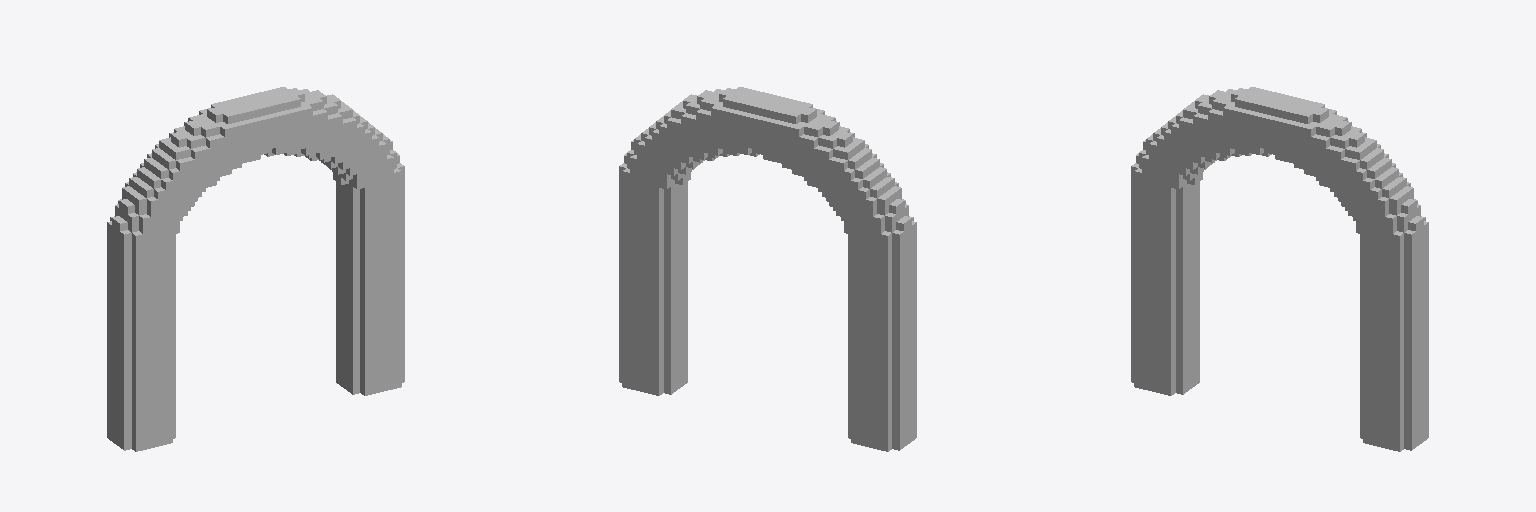
Rendered from Arch.obj.
3 renders of one model, left to right at view 1: azimuth 30°, elevation 25°; view 2: azimuth 150°, elevation 25°; view 3: azimuth 330°, elevation 25°, orthographic.
Visible parts, largest first — view 1: object 1; view 2: object 1; view 3: object 1.
Boxes of the visible parts, x1=… form: object 1: x1=107, y1=87, x2=404, y2=451; object 1: x1=619, y1=87, x2=916, y2=451; object 1: x1=1131, y1=87, x2=1428, y2=451.
Bounding box in the file's own units: 3.8 × 4 × 0.6.